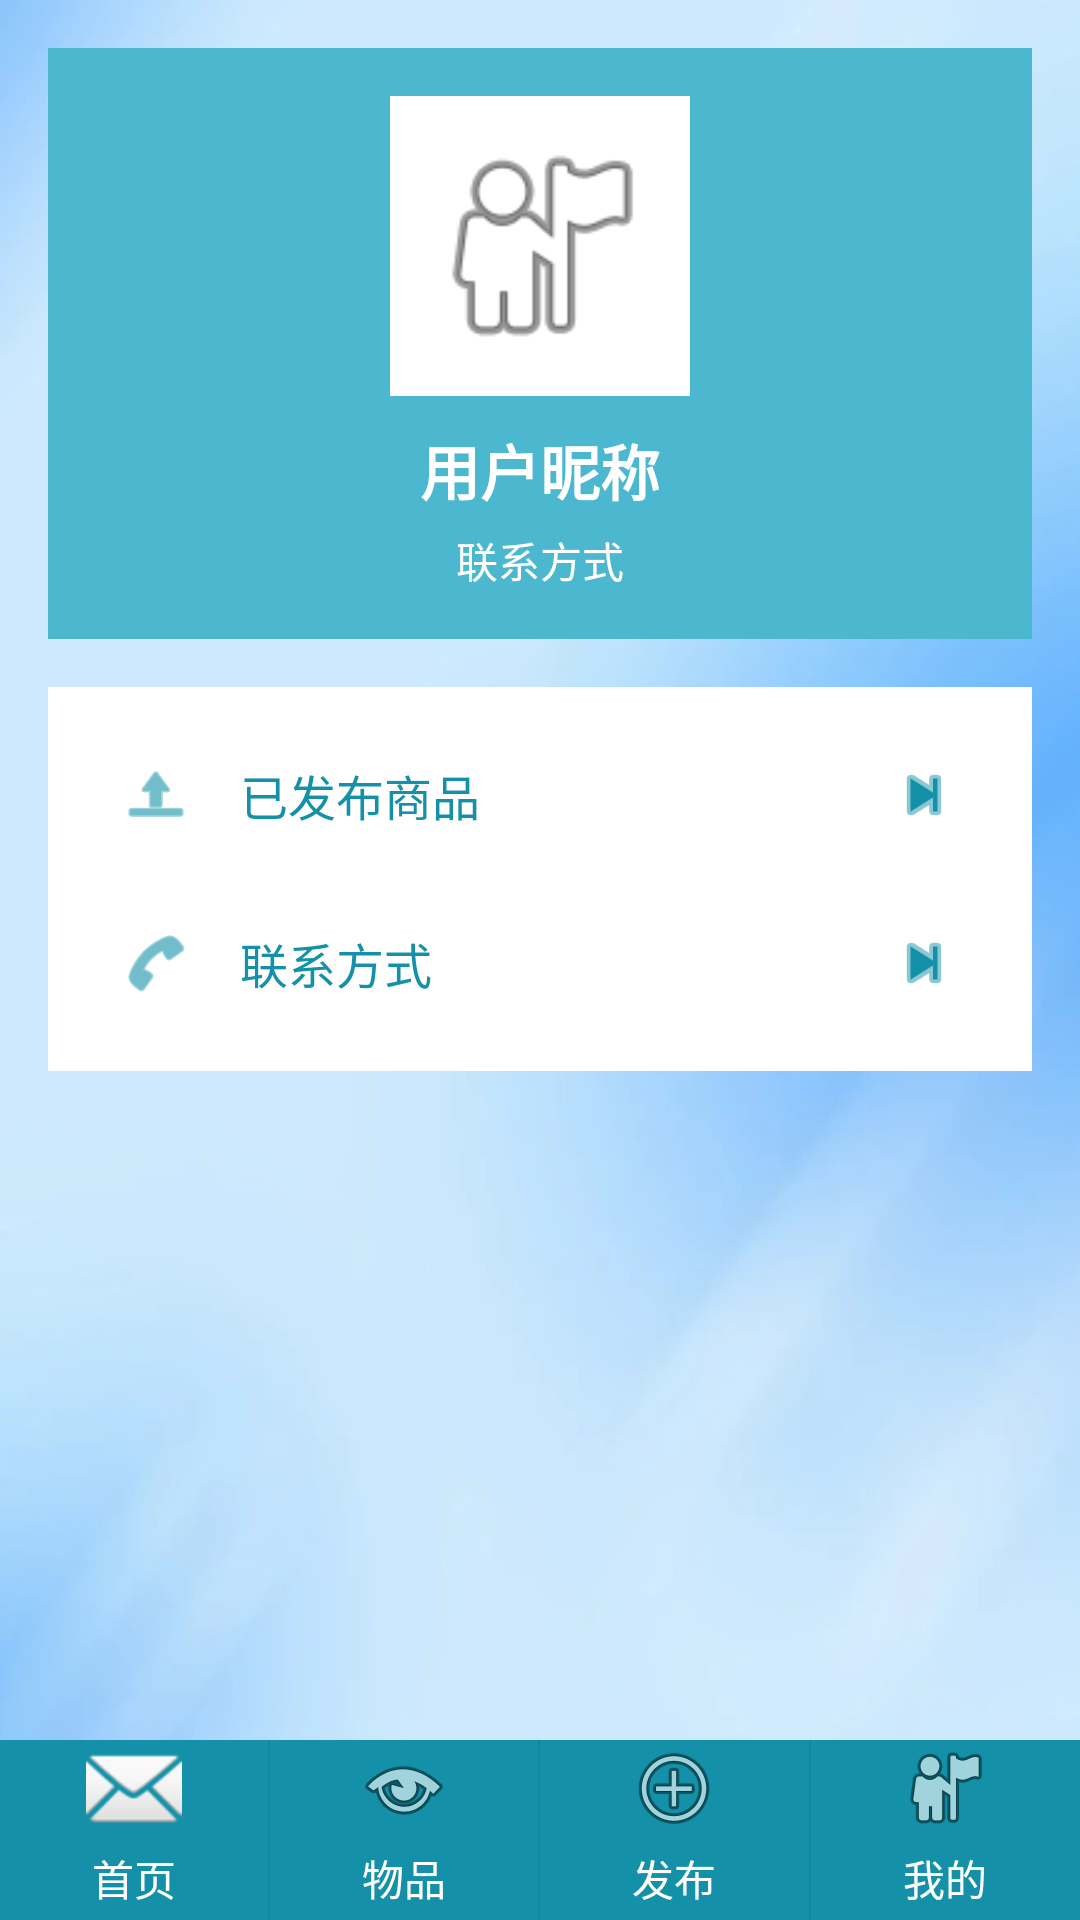

Locate icon controls on the screen. Image size 1080x1920, boxes as {"left": x1, "top": y1, "right": x2, "bottom": y2}.
call: {"left": 128, "top": 935, "right": 185, "bottom": 992}
next: {"left": 907, "top": 775, "right": 941, "bottom": 815}, {"left": 907, "top": 943, "right": 941, "bottom": 983}
upload: {"left": 128, "top": 771, "right": 184, "bottom": 817}
